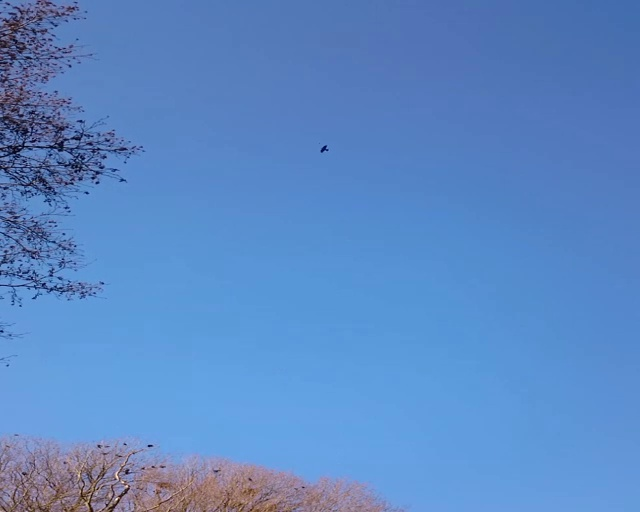BIRD: (320, 144, 329, 153)
